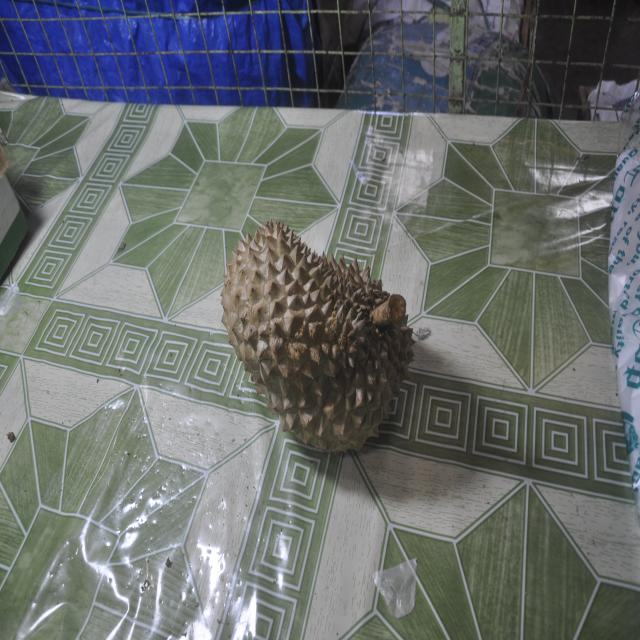mature: (221, 221, 414, 454)
